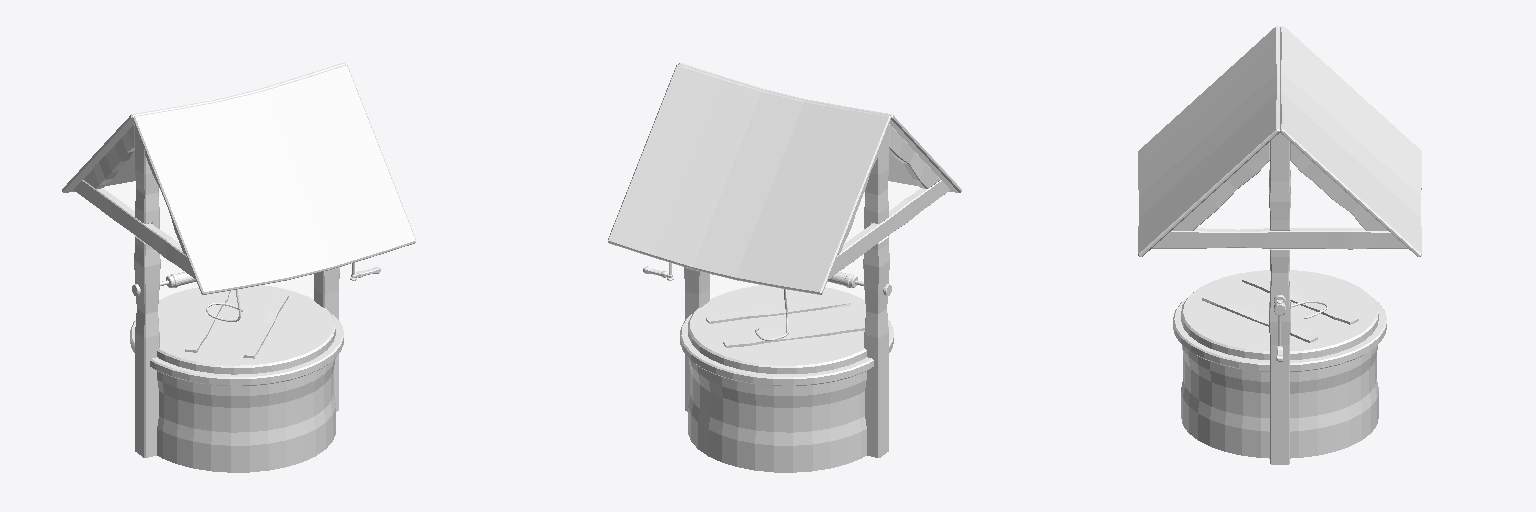
Rendered from village_well.obj.
The picture shows the model from 3 angles: view 1: azimuth 30°, elevation 25°; view 2: azimuth 150°, elevation 25°; view 3: azimuth 270°, elevation 25°; orthographic projection.
Visible parts, largest first — view 1: Wood_planks, stone_tiles, Wood, concrete1, Crank; view 2: Wood_planks, stone_tiles, Wood, concrete1, Crank; view 3: Wood_planks, Wood, stone_tiles, concrete1.
Part boxes in pixels (x1,y1,x2,y2): Wood_planks: (62, 63, 415, 374); stone_tiles: (157, 358, 335, 472); Wood: (74, 124, 339, 457); concrete1: (130, 314, 343, 385); Crank: (132, 263, 380, 295); Wood_planks: (608, 63, 961, 373); stone_tiles: (688, 358, 866, 472); Wood: (684, 124, 949, 457); concrete1: (680, 314, 893, 385); Crank: (643, 263, 891, 295); Wood_planks: (1138, 26, 1421, 359); Wood: (1152, 133, 1407, 464); stone_tiles: (1181, 345, 1378, 458); concrete1: (1173, 298, 1386, 371).
Bounding box in the file's own units: 289 × 380 × 286.